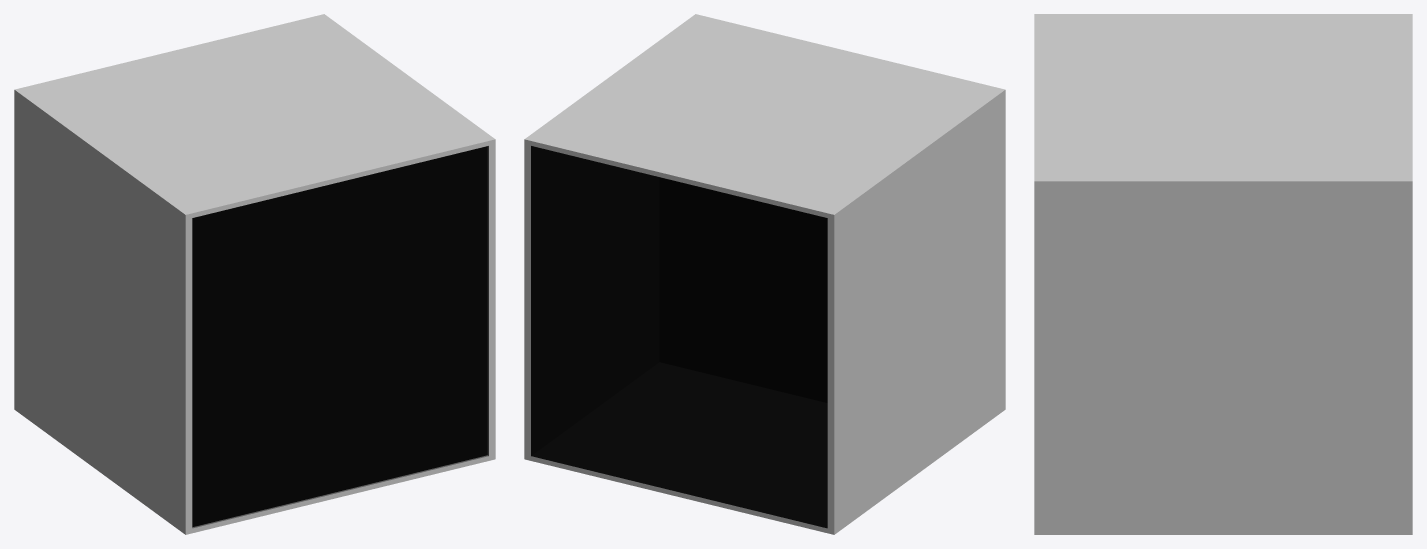
The model's file is frameMinimalist_white.glb.
The picture shows the model from 3 angles, left to right: view 1: azimuth 30°, elevation 25°; view 2: azimuth 150°, elevation 25°; view 3: azimuth 270°, elevation 25°; orthographic projection. The views are drawn at different scales.
Visible parts, largest first — view 1: Material2, A_PaintingMesh, Material3.001; view 2: Material2, Material3.004; view 3: Material2.
Boxes of the visible parts, <box> form: Material2: <box>14,14,495,534</box>; A_PaintingMesh: <box>192,146,487,527</box>; Material3.001: <box>192,146,488,528</box>; Material2: <box>524,14,1005,534</box>; Material3.004: <box>531,146,827,528</box>; Material2: <box>1034,14,1412,534</box>.
Size of what is drawn, in the model's own units: 1.05 by 1.03 by 1.
Materials: 5 (1 with a texture image).
